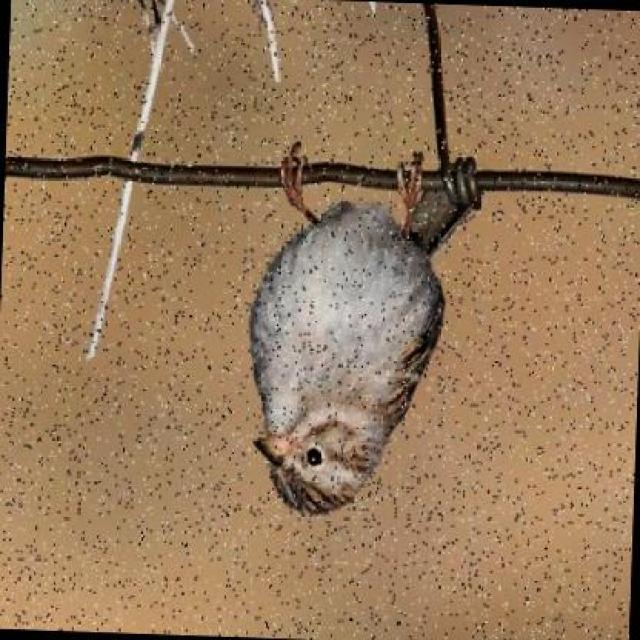Bird: (239, 141, 489, 526)
